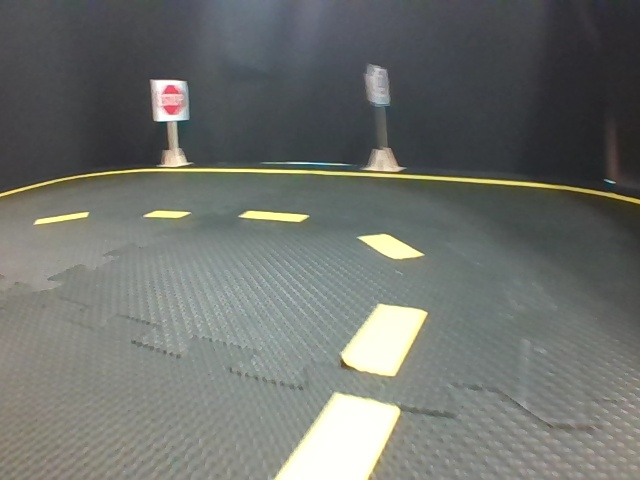30: (366, 67, 389, 102)
stop: (151, 78, 188, 119)
